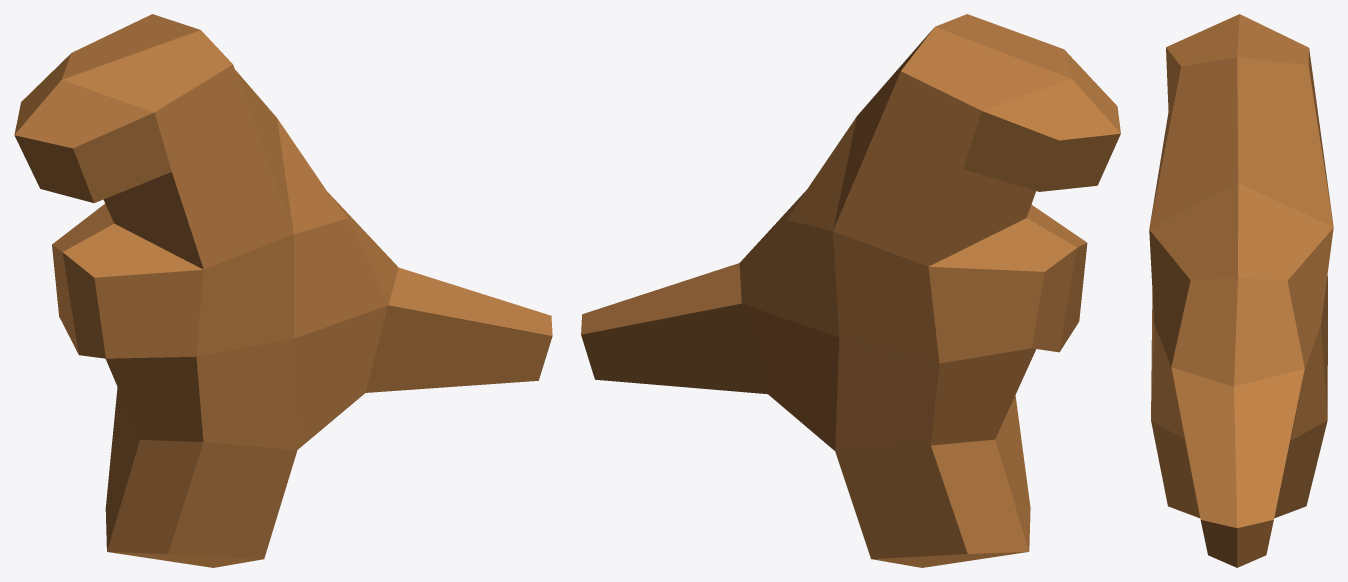
The model's file is Nugget.fbx.
3 renders of one model, left to right at view 1: azimuth 30°, elevation 25°; view 2: azimuth 150°, elevation 25°; view 3: azimuth 270°, elevation 25°, orthographic. The views are drawn at different scales.
Parts seen in each view (by area): view 1: Nugget; view 2: Nugget; view 3: Nugget.
Boxes of the visible parts, x1,y1,x2,y2 form: Nugget: (14, 14, 552, 567); Nugget: (581, 14, 1120, 567); Nugget: (1149, 14, 1333, 567).
Bounding box in the file's own units: 307 × 296 × 105.
